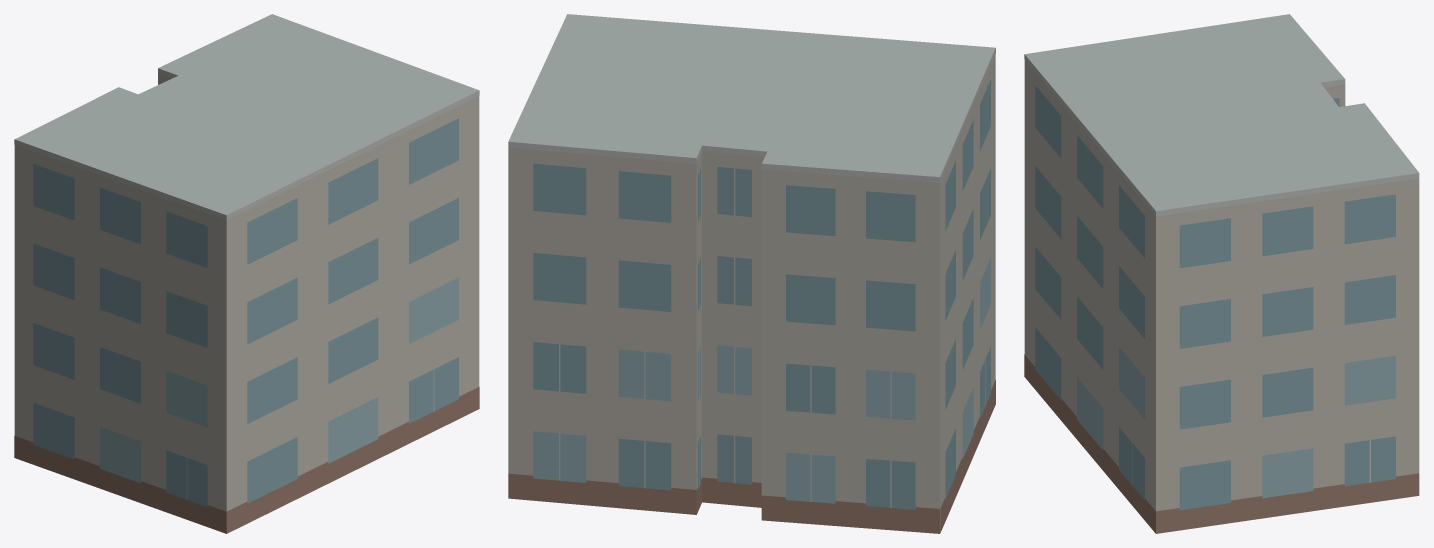
File: survey-upis-32748270.glb
The picture shows the model from 3 angles, left to right: view 1: azimuth 30°, elevation 25°; view 2: azimuth 150°, elevation 25°; view 3: azimuth 270°, elevation 25°; orthographic projection. The views are drawn at different scales.
Visible parts, largest first — view 1: survey-upis-32748270.tmp; view 2: survey-upis-32748270.tmp; view 3: survey-upis-32748270.tmp.
Boxes of the visible parts, x1,y1,x2,y2 form: survey-upis-32748270.tmp: [14, 14, 479, 533]; survey-upis-32748270.tmp: [508, 14, 995, 533]; survey-upis-32748270.tmp: [1024, 14, 1419, 533].
Bounding box in the file's own units: 19.67 × 15 × 16.64.
